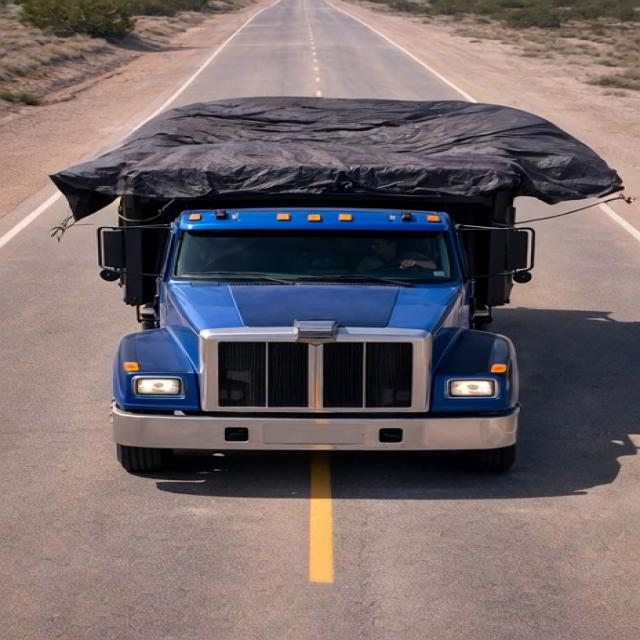trailer: (40, 88, 626, 203)
truck: (25, 55, 598, 474)
